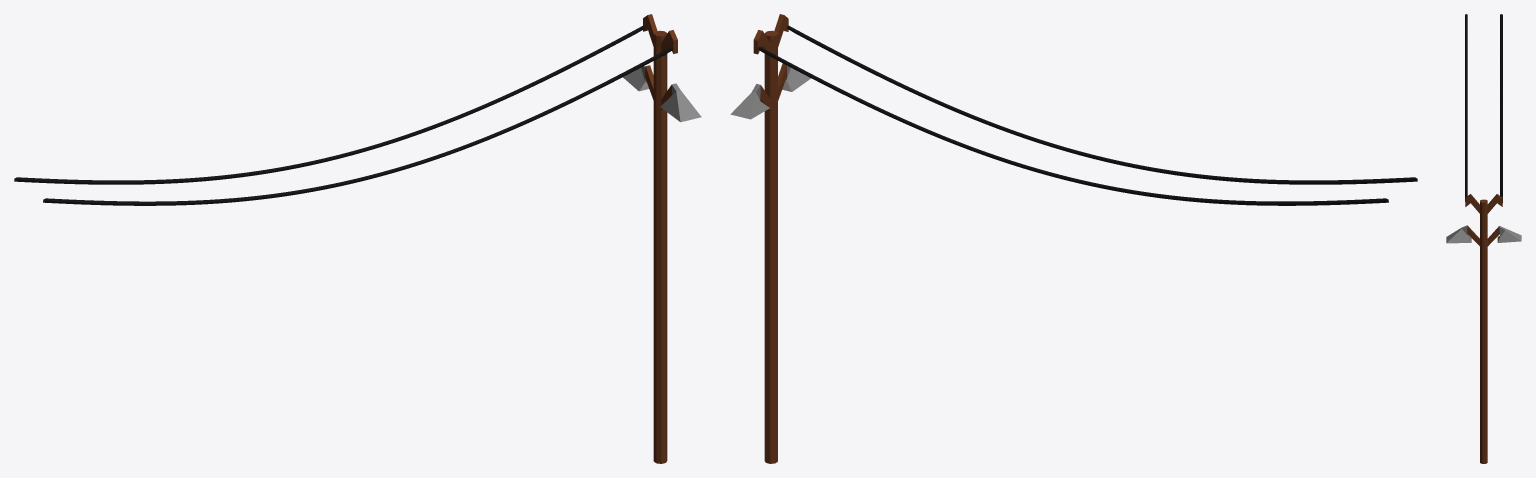
Rendered from Model_Lampa.fbx.
3 renders of one model, left to right at view 1: azimuth 30°, elevation 25°; view 2: azimuth 150°, elevation 25°; view 3: azimuth 270°, elevation 25°, orthographic. The views are drawn at different scales.
Parts seen in each view (by area): view 1: Cube; view 2: Cube; view 3: Cube.
Part boxes in pixels (x1=…): Cube: x1=14, y1=14, x2=701, y2=463; Cube: x1=730, y1=14, x2=1417, y2=463; Cube: x1=1446, y1=14, x2=1521, y2=463.
Bounding box in the file's own units: 195 × 768 × 1178.
